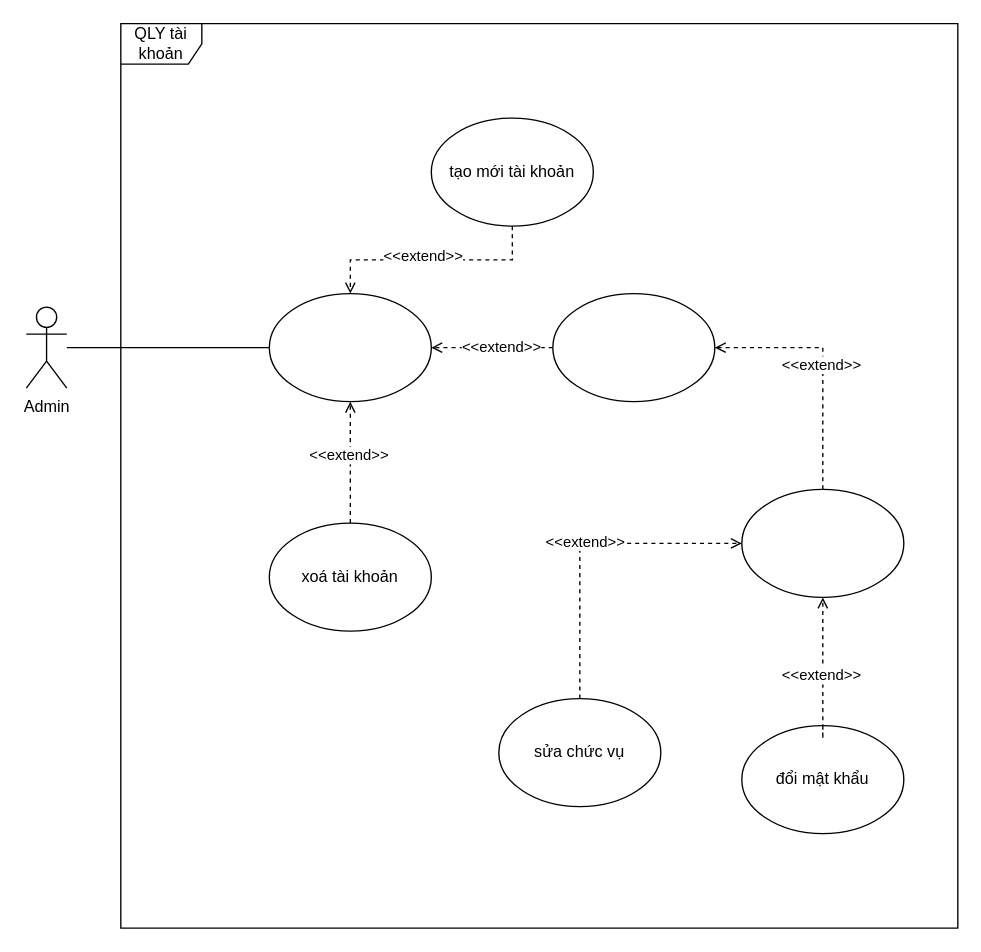
This 981x952 diagram has some shape labels left out. Each missing label, with the centre of its shape:
"cập nhật tài khoản" belongs at point 822,542.
"quản lý tài khoản và phân quyền" belongs at point 349,347.
"tìm kiếm tài khoản" belongs at point 633,347.
